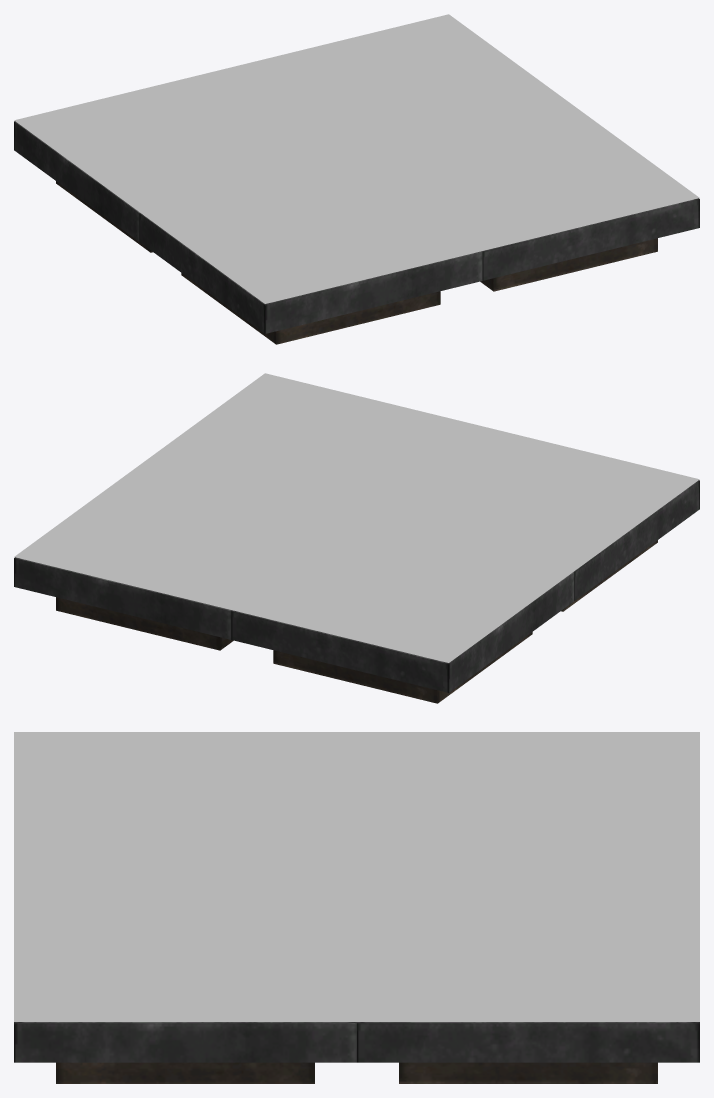
Rendered from tesla_props_giant_fuse_01_floor.dae.
The picture shows the model from 3 angles, top to bottom: view 1: azimuth 30°, elevation 25°; view 2: azimuth 150°, elevation 25°; view 3: azimuth 270°, elevation 25°; orthographic projection. The views are drawn at different scales.
Parts seen in each view (by area): view 1: pPlane1, polySurface95; view 2: pPlane1, polySurface95; view 3: pPlane1, polySurface95.
Boxes of the visible parts, left/top/right/bottom form: pPlane1: left=14, top=14, right=699, bottom=303; polySurface95: left=14, top=121, right=699, bottom=344; pPlane1: left=14, top=373, right=699, bottom=662; polySurface95: left=14, top=480, right=699, bottom=703; pPlane1: left=14, top=732, right=699, bottom=1021; polySurface95: left=14, top=1022, right=699, bottom=1083.
Bounding box in the file's own units: 4000 × 513 × 4000.
